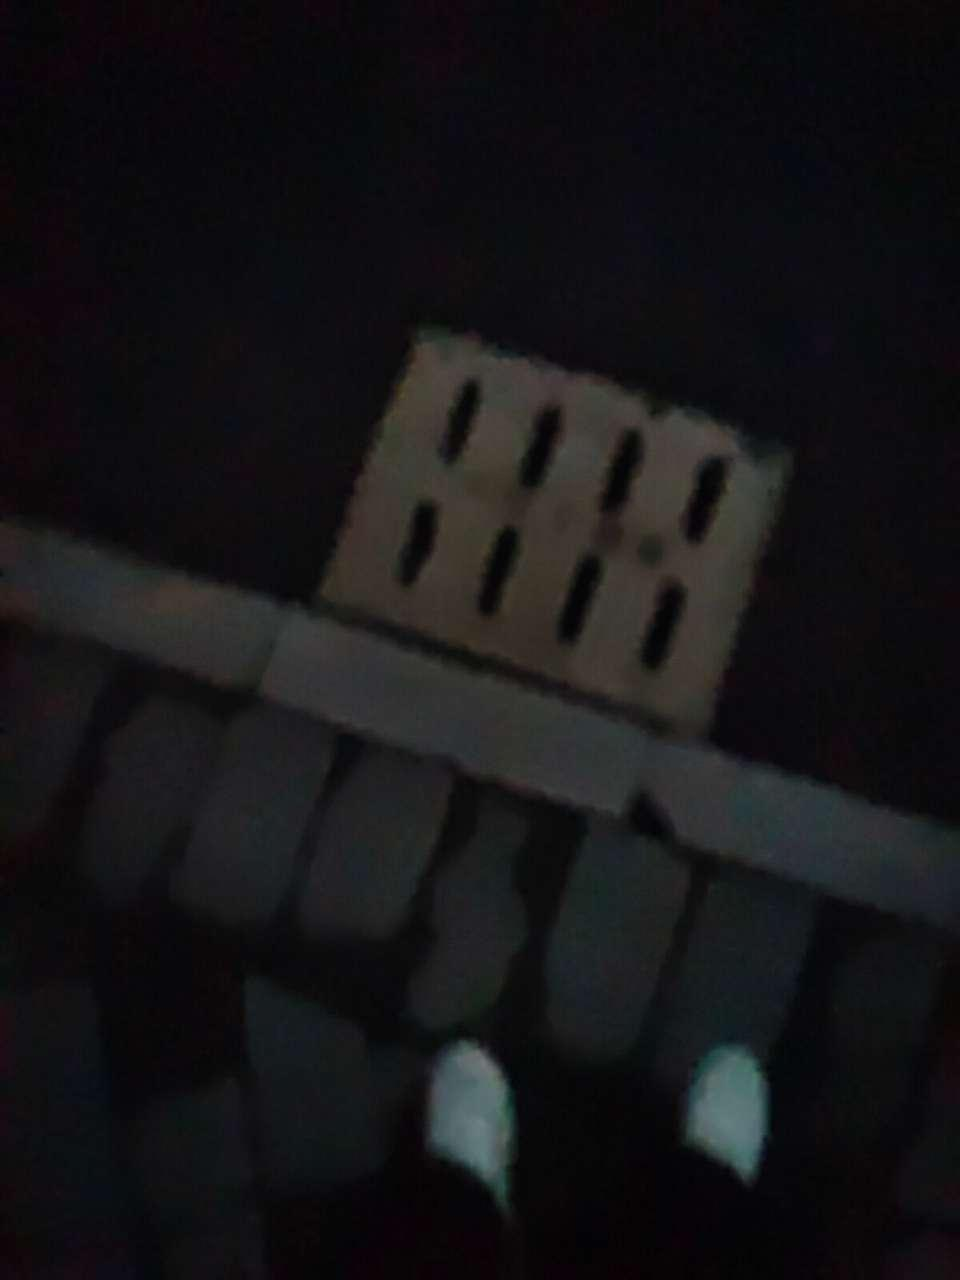wellcover: (295, 296, 807, 757)
